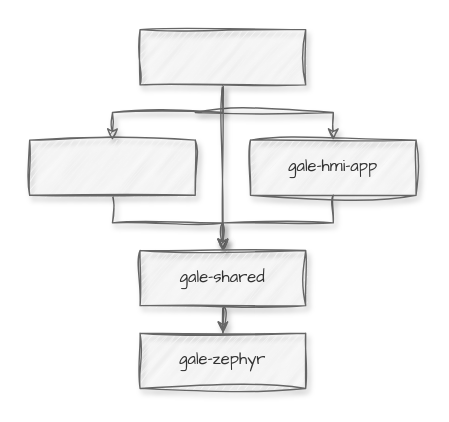
This 449x422 diagram has some shape labels left out. Here are the shapes that lost their labels. From the top down, the centre of each, then its label:
At [223,59]: "gale-manifest".
At [113,169]: "gale-sensor-app".
